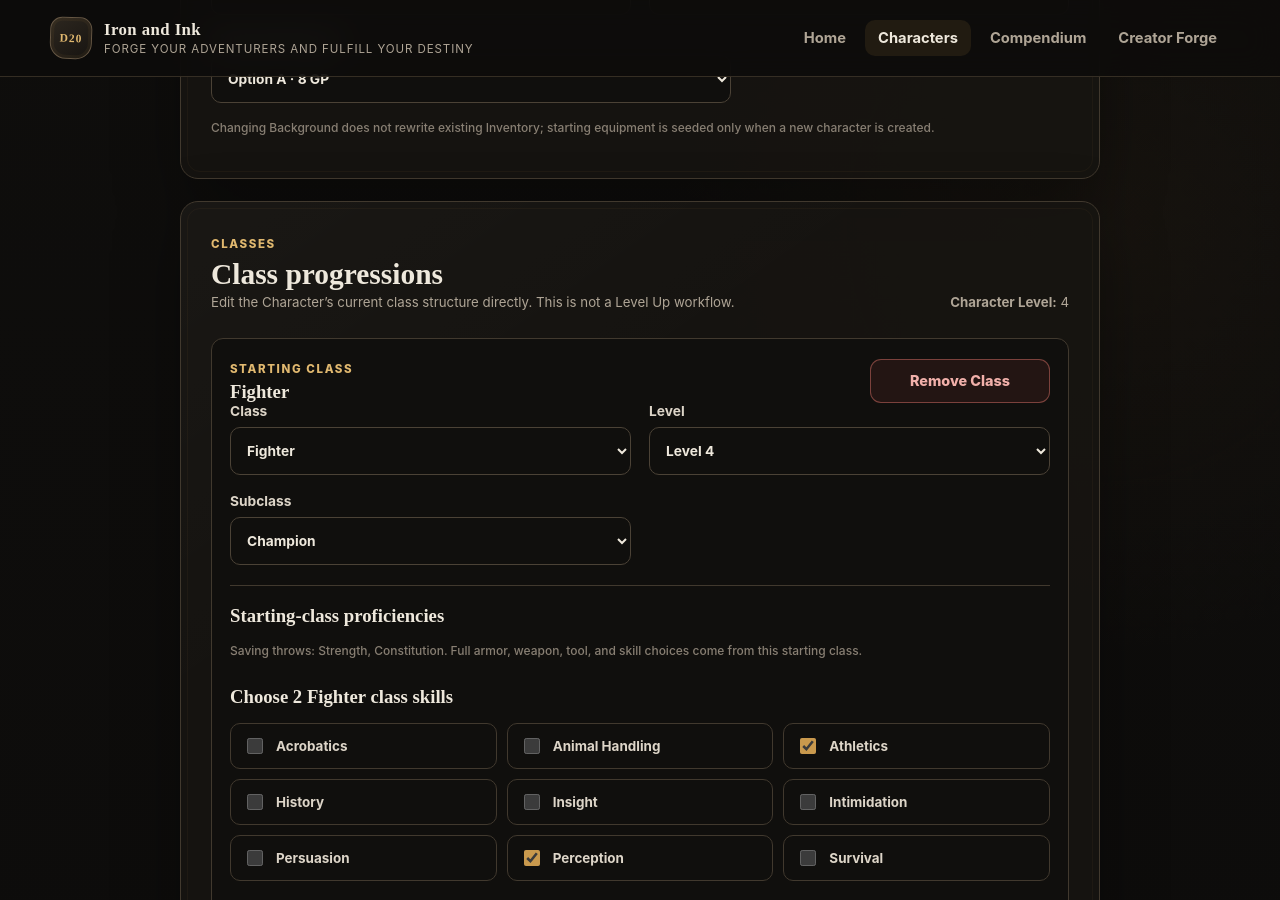
Test case: Milestone 9 subclass Character integration › clears Champion if level falls below acquisition and keeps it explicit when eligible
(page scrolled)
Select "Level 2" in the dropdown labelled "Level": (850, 451) top-left (649, 427), bottom-right (1050, 475)
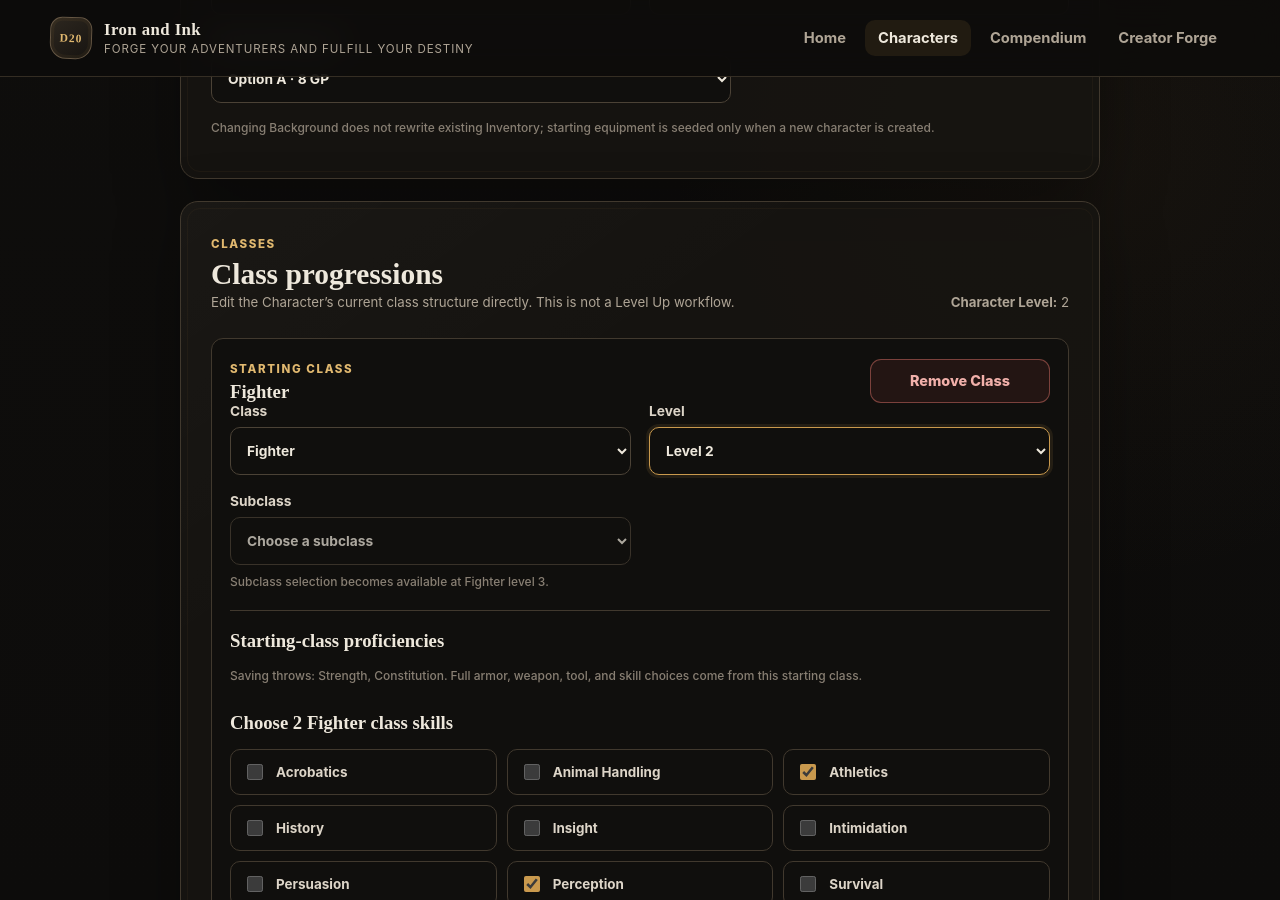
Now the dropdown labelled "Subclass" shows "Choose a subclass", box top-left (230, 517), bottom-right (631, 565)
Now the dropdown labelled "Subclass" is disabled, box top-left (230, 517), bottom-right (631, 565)
